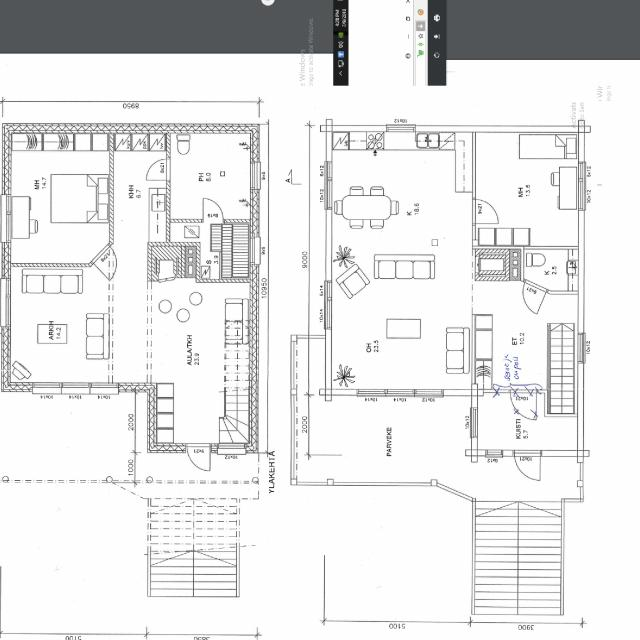door: (91, 244, 126, 281), (516, 280, 548, 314), (514, 450, 540, 484), (187, 443, 210, 477), (472, 200, 498, 223), (146, 159, 170, 180), (203, 199, 223, 223)
